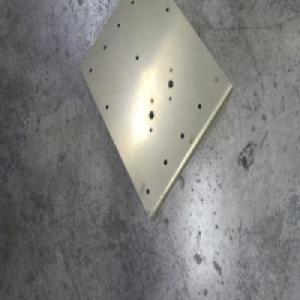MetalSheet: (78, 0, 235, 223)
